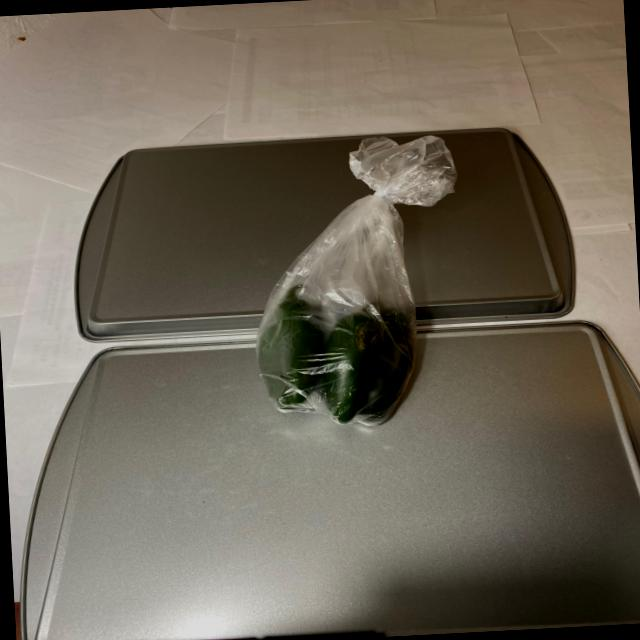chilli: (247, 278, 429, 438)
